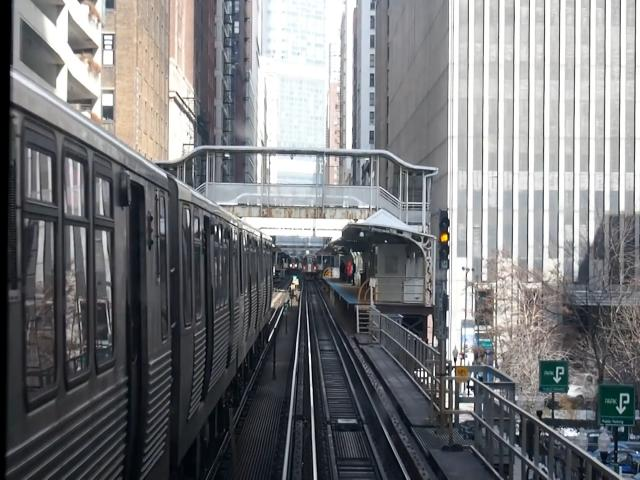signal light: (439, 208, 453, 272)
